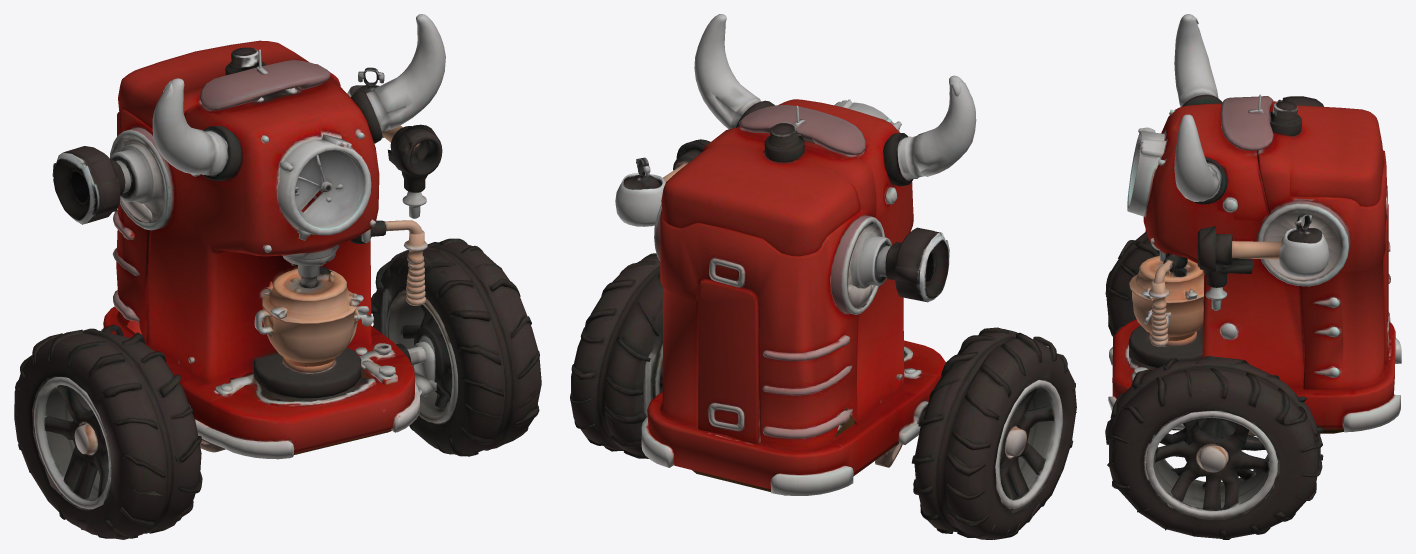
Rendered from charger.glb.
The picture shows the model from 3 angles, left to right: view 1: azimuth 30°, elevation 25°; view 2: azimuth 150°, elevation 25°; view 3: azimuth 270°, elevation 25°; orthographic projection. The views are drawn at different scales.
Visible parts, largest first — view 1: tripo_node_06cc8704-08dd-4d66-98d8-065e6b46458e; view 2: tripo_node_06cc8704-08dd-4d66-98d8-065e6b46458e; view 3: tripo_node_06cc8704-08dd-4d66-98d8-065e6b46458e.
Boxes of the visible parts, left/top/right/bottom form: tripo_node_06cc8704-08dd-4d66-98d8-065e6b46458e: left=14, top=14, right=541, bottom=539; tripo_node_06cc8704-08dd-4d66-98d8-065e6b46458e: left=570, top=14, right=1076, bottom=539; tripo_node_06cc8704-08dd-4d66-98d8-065e6b46458e: left=1105, top=14, right=1401, bottom=539.
Bounding box in the file's own units: 0.9995 × 0.9976 × 0.6792.
Materials: 1 (1 with a texture image).
